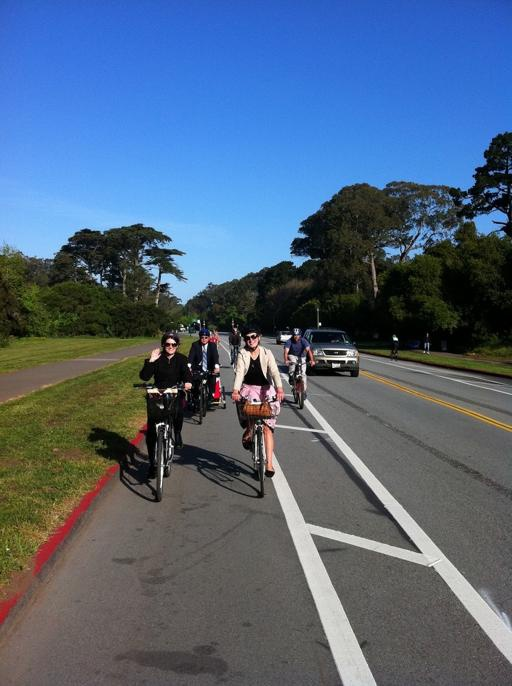non-vehicle: (128, 381, 194, 503), (229, 393, 279, 498), (285, 360, 309, 409), (232, 343, 239, 374)
